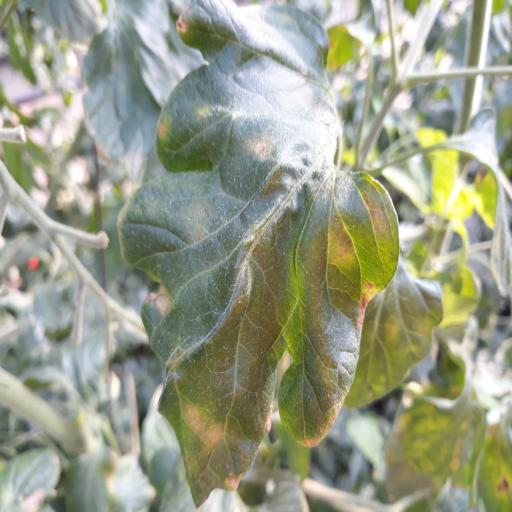Leaf Mold: (118, 0, 398, 510)
